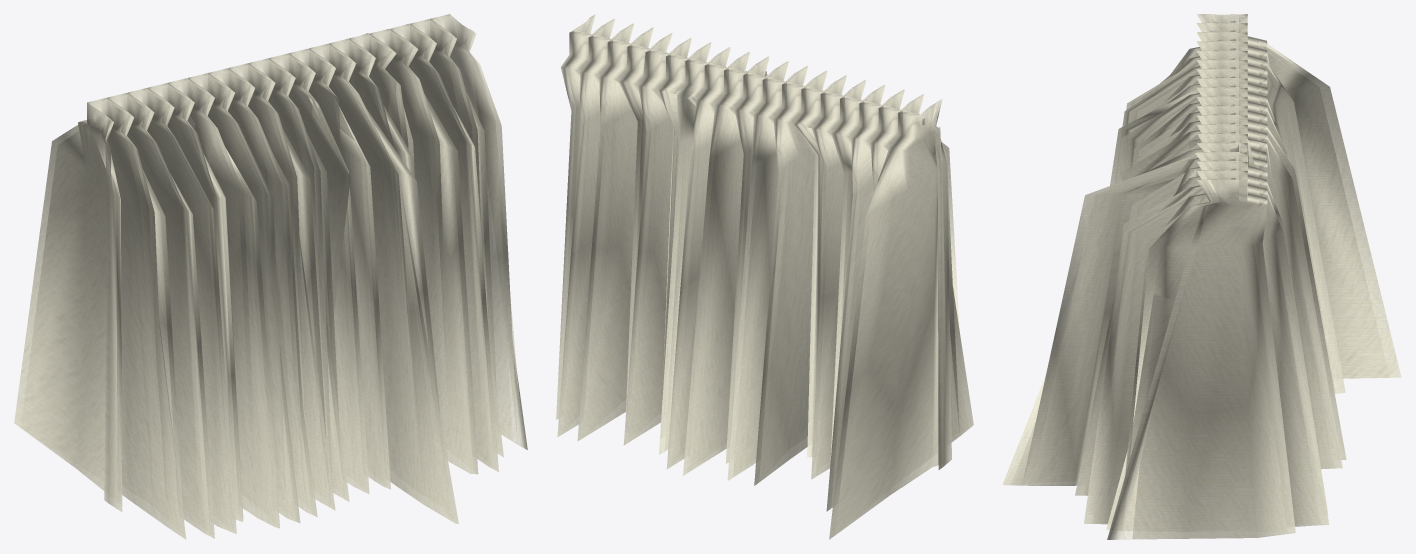
File: sh-scopia-curtain.glb
3 renders of one model, left to right at view 1: azimuth 30°, elevation 25°; view 2: azimuth 150°, elevation 25°; view 3: azimuth 270°, elevation 25°, orthographic. The views are drawn at different scales.
Visible parts, largest first — view 1: Plane; view 2: Plane; view 3: Plane.
Part boxes in pixels (box(x1,y1,x2,y2)): Plane: box(14, 14, 527, 539); Plane: box(556, 14, 973, 539); Plane: box(1002, 14, 1401, 539).
Bounding box in the file's own units: 1 × 1 × 1.
Materials: 1 (1 with a texture image).
